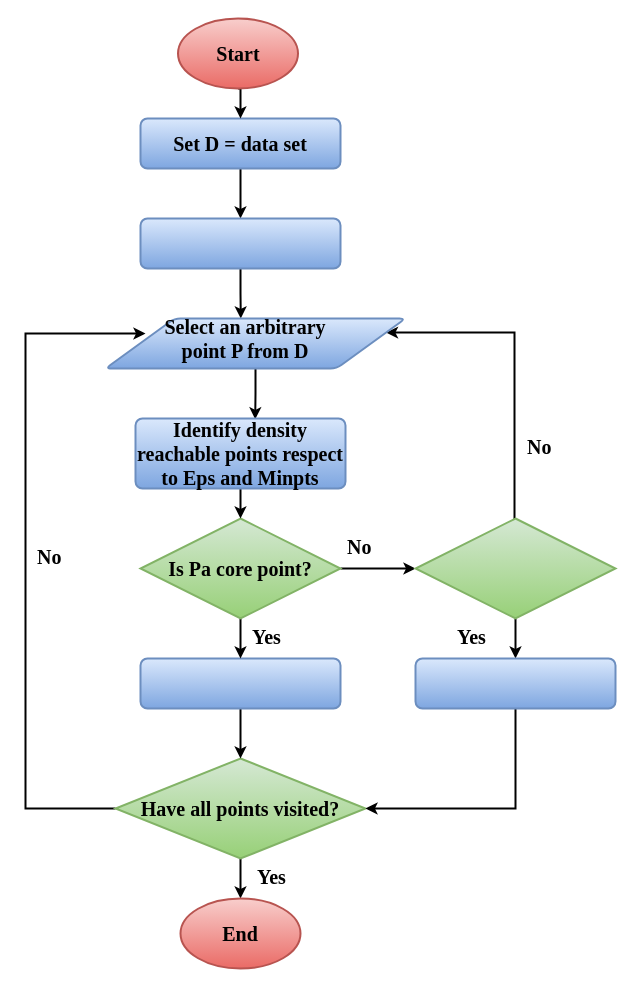
Some shapes in this 633 by 986 pixel diagram are drawn without their labels. Here are the shapes that lost their labels. From the top down, the centre of each, then its label:
At point (240, 243): "Loop".
At point (515, 568): "Is Pa border point?".
At point (240, 683): "Cluster formed with ID".
At point (515, 683): "Detect as noise".
